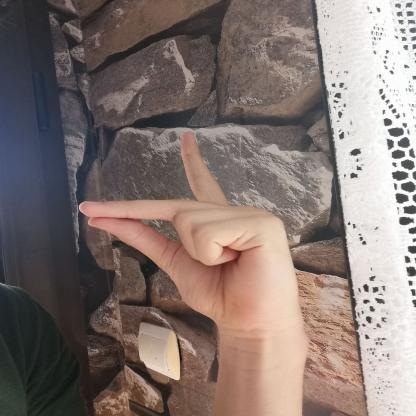TAA: (68, 117, 313, 344)
